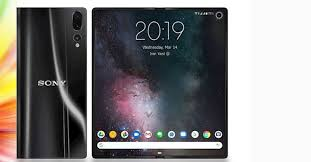sony: (9, 3, 86, 159)
